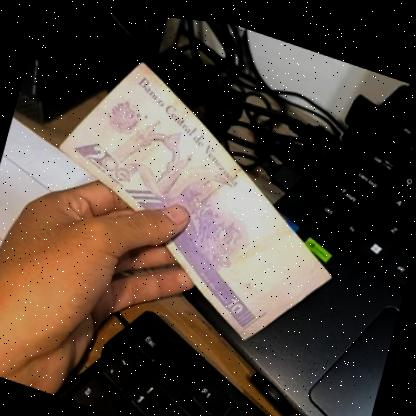ten-back-vef: (29, 39, 371, 360)
